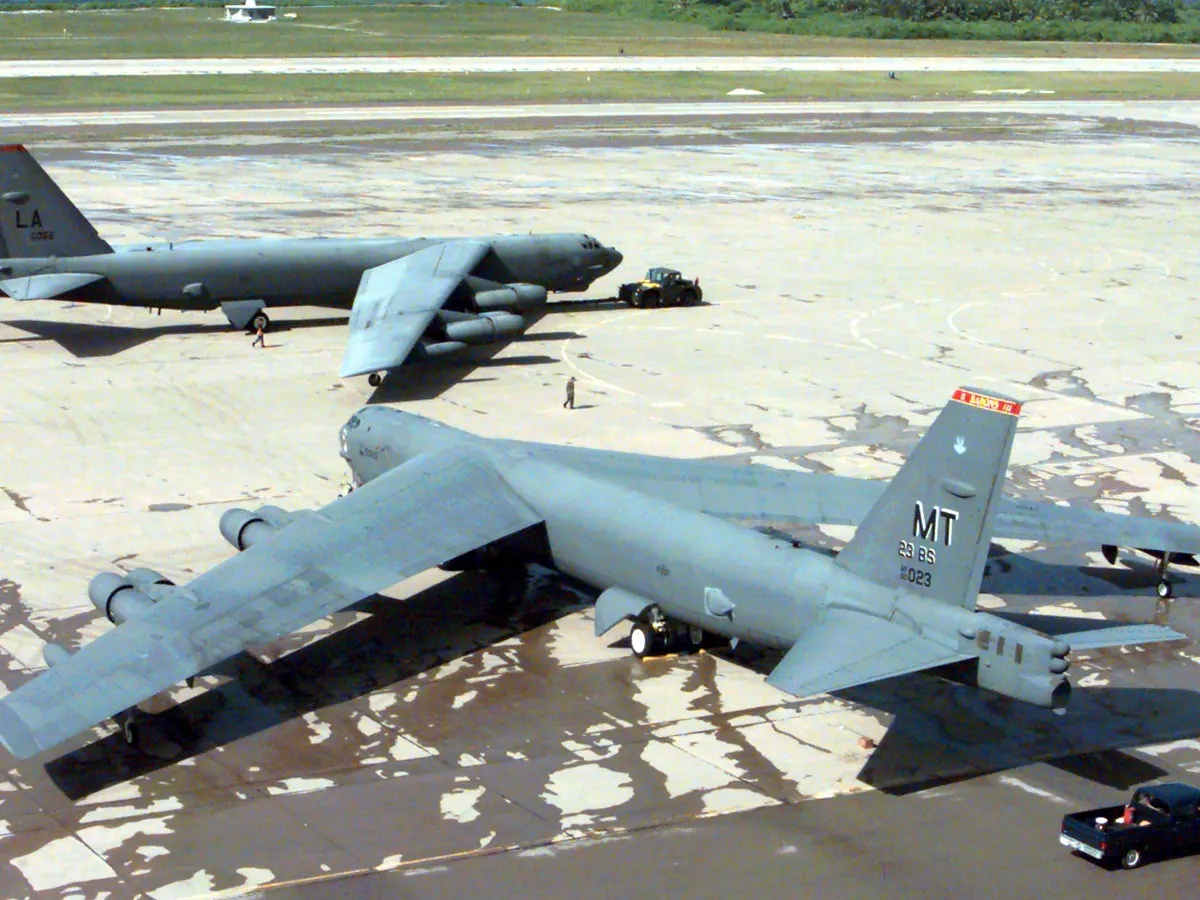B52: (1, 386, 1200, 759), (1, 142, 624, 386)
